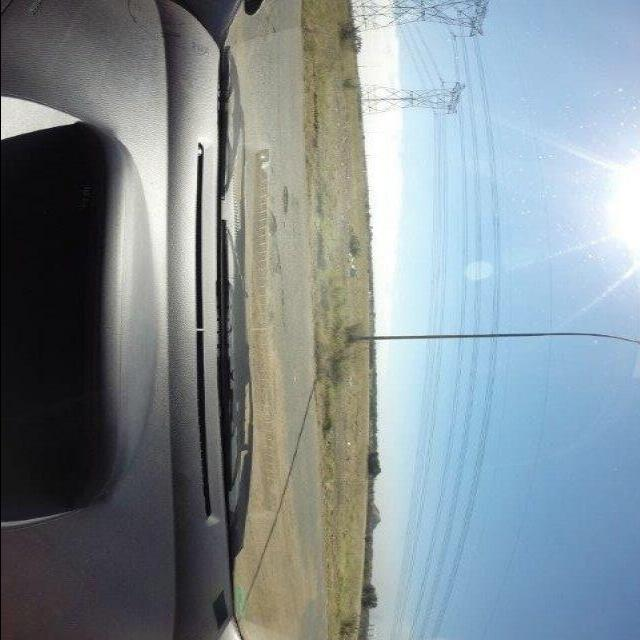lubang: (280, 183, 294, 218), (264, 211, 280, 237)
